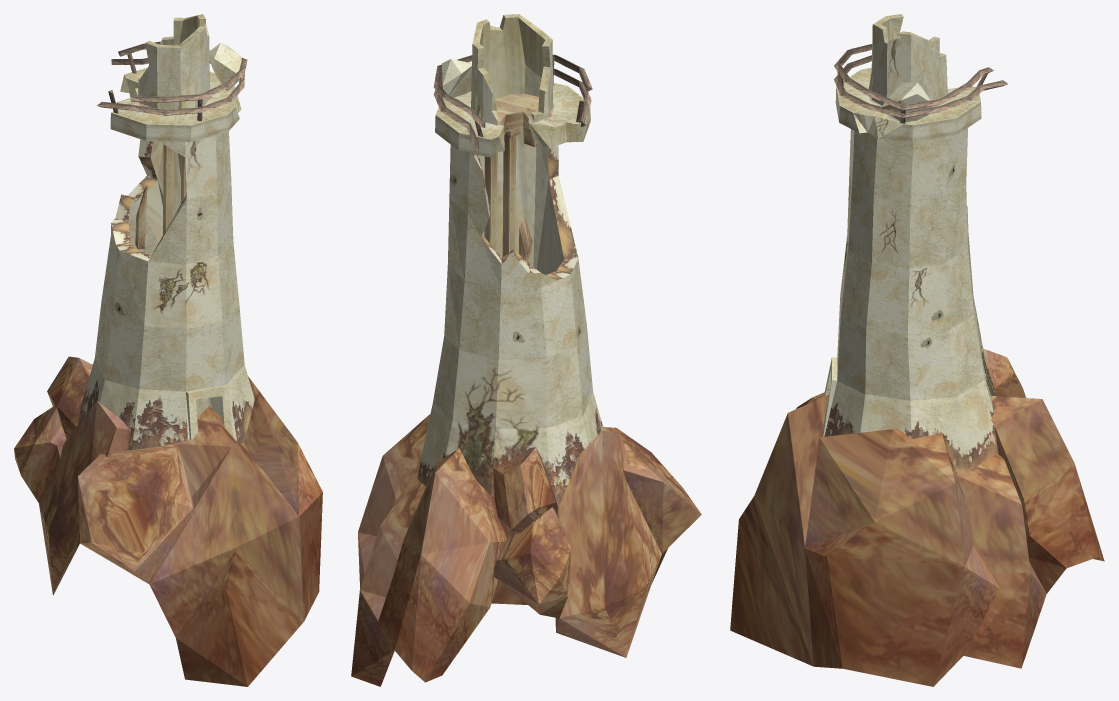
The model's file is C2SMLIGHTHOUSEH.obj.
The picture shows the model from 3 angles, left to right: view 1: azimuth 30°, elevation 25°; view 2: azimuth 150°, elevation 25°; view 3: azimuth 270°, elevation 25°; orthographic projection. The views are drawn at different scales.
Parts seen in each view (by area): view 1: Node 0; view 2: Node 0; view 3: Node 0.
Part boxes in pixels (bbox=[...]): Node 0: bbox=[14, 14, 322, 686]; Node 0: bbox=[351, 14, 701, 686]; Node 0: bbox=[730, 14, 1104, 686].
Size of the model in its own units: 31.06 by 70.15 by 38.53.
Materials: 5 (5 with a texture image).
